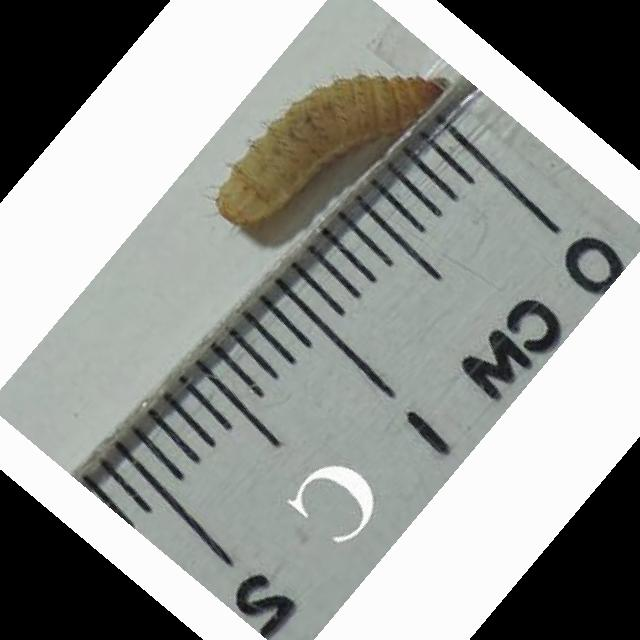Maggot: (210, 72, 449, 226)
